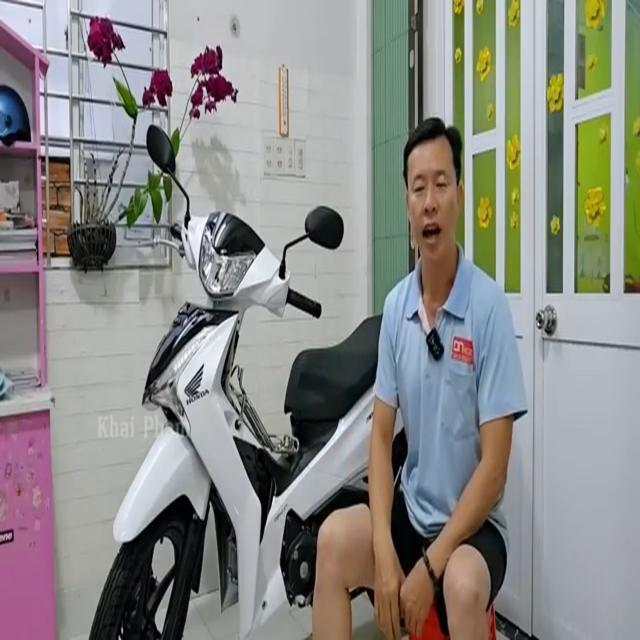motorcycle: (92, 114, 413, 640)
